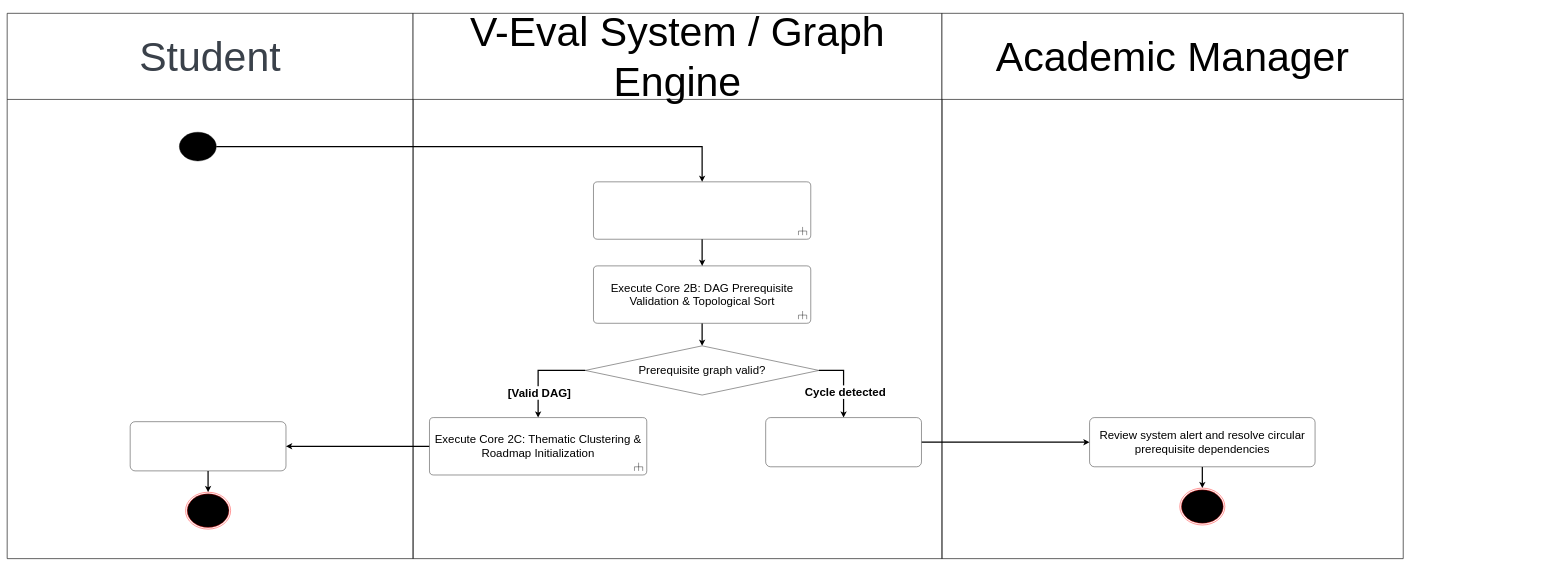
This 1546x566 diagram has some shape labels left out. Each missing label, with the centre of its shape:
Execute Core 2A: Time Evaluation & Pruning: pixel 702 210
Trigger CRITICAL alert and freeze generation process: pixel 843 442
View study timeline and micro-group study partners: pixel 208 446
